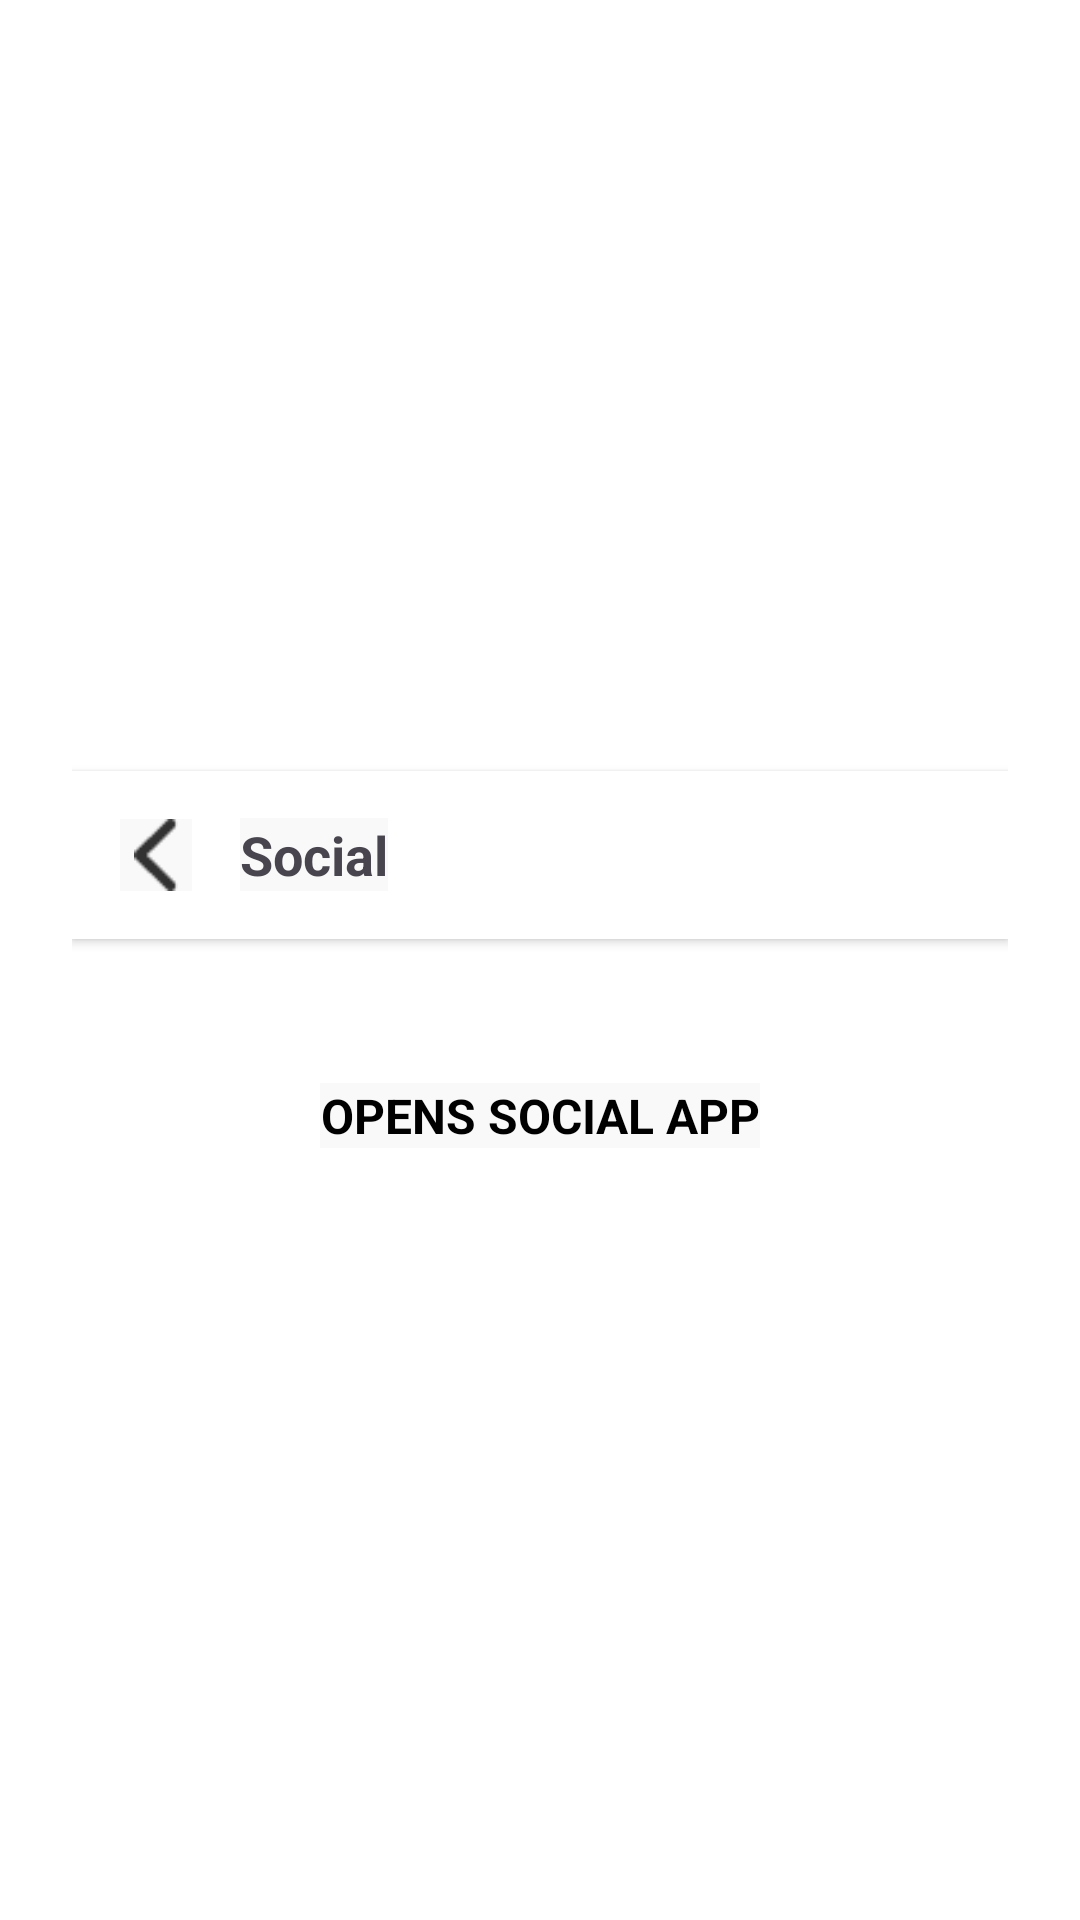

Icon click points for this 1080 × 1920 phone screenshot, format (x,y):
Back: (155,855)
